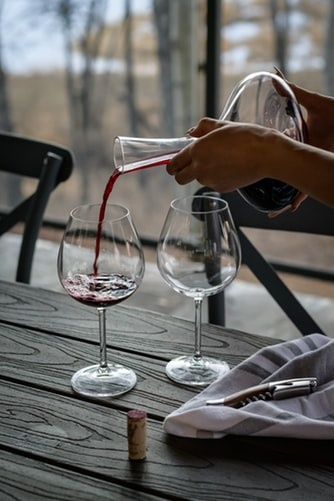whiskey: (55, 201, 144, 401), (158, 188, 237, 392)
